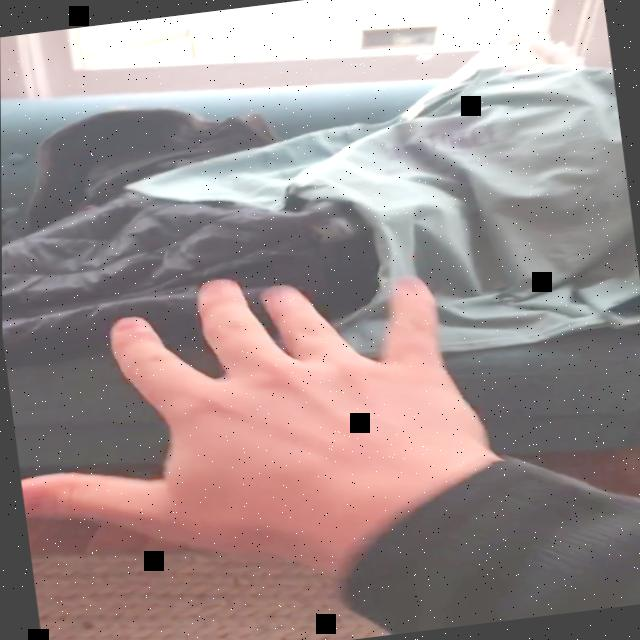Paper: (1, 245, 505, 574)
